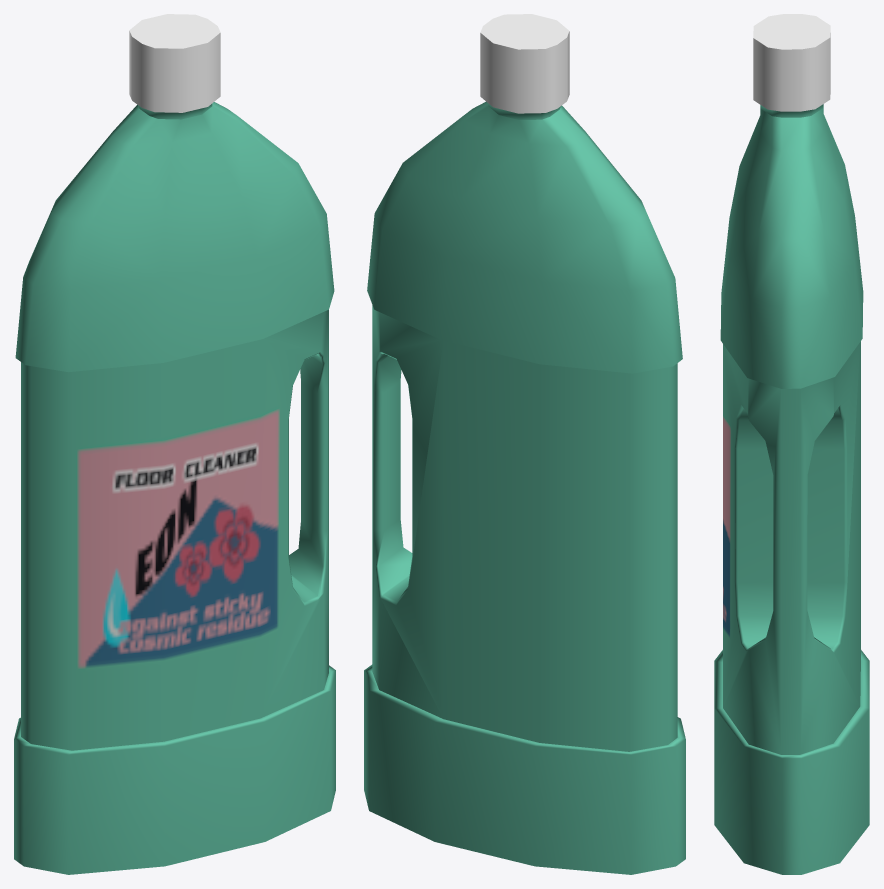
The model's file is CleanerFloor.fbx.
3 views of the same model, side by side, from view 1: azimuth 30°, elevation 25°; view 2: azimuth 150°, elevation 25°; view 3: azimuth 270°, elevation 25° (orthographic). The views are drawn at different scales.
Visible parts, largest first — view 1: FloorCleanre; view 2: FloorCleanre; view 3: FloorCleanre.
Part boxes in pixels (x1,y1,x2,y2): FloorCleanre: [14, 14, 335, 874]; FloorCleanre: [364, 14, 685, 874]; FloorCleanre: [714, 14, 869, 874].
Size of the model in its own units: 1.92 by 4.67 by 0.8569.
